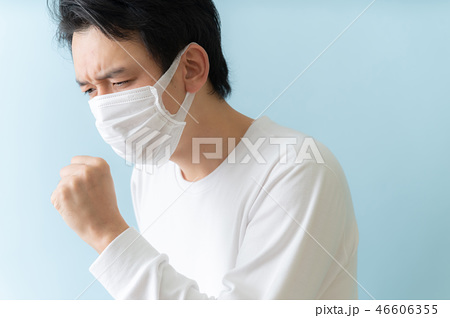mask: (79, 87, 186, 165)
